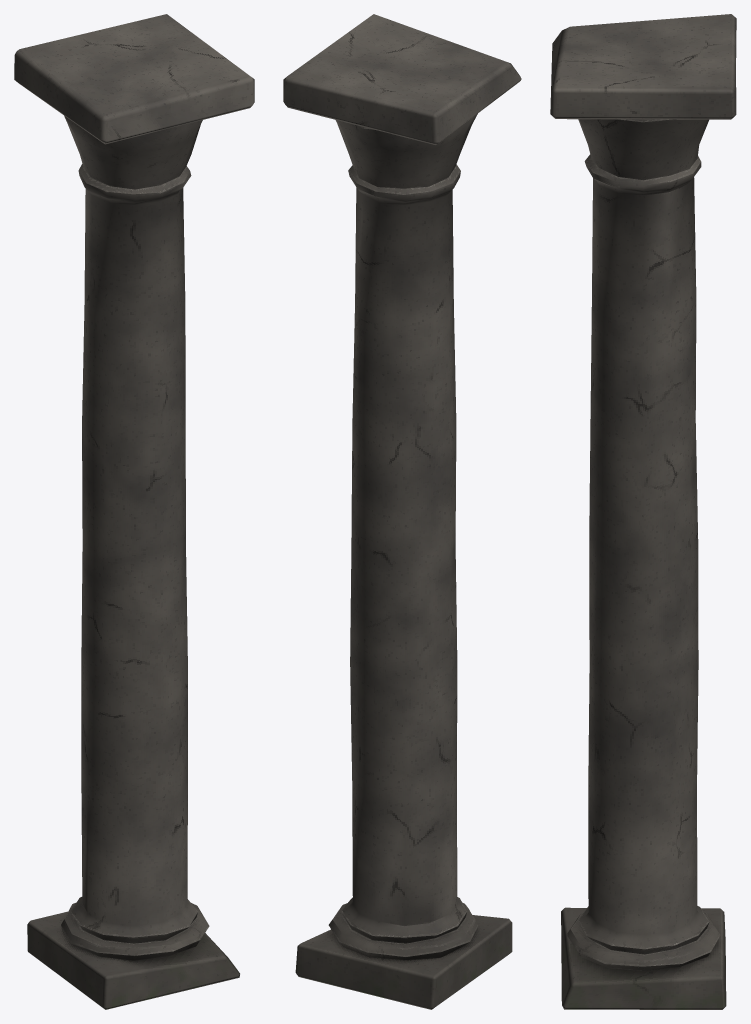
File: column_full.glb
3 views of the same model, side by side, from view 1: azimuth 30°, elevation 25°; view 2: azimuth 150°, elevation 25°; view 3: azimuth 270°, elevation 25° (orthographic). The views are drawn at different scales.
Visible parts, largest first — view 1: Column; view 2: Column; view 3: Column.
Part boxes in pixels (<box>): Column: <box>14,14,254,1009</box>; Column: <box>283,14,521,1009</box>; Column: <box>550,14,736,1009</box>.
Size of the model in its own units: 0.7016 by 3.86 by 0.703.
Materials: 1 (1 with a texture image).
